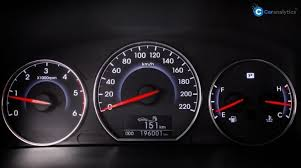Digital_Meter: (122, 116, 174, 138)
